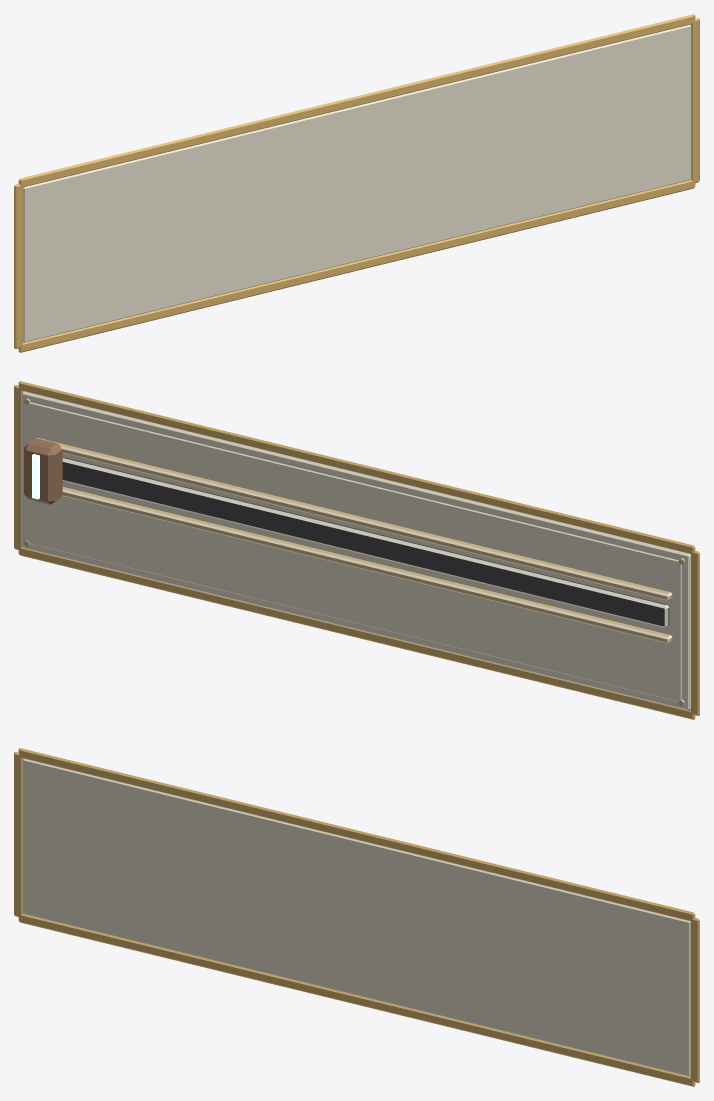
Rendered from Ctl_Slider_4x1.fbx.
The picture shows the model from 3 angles, top to bottom: view 1: azimuth 30°, elevation 25°; view 2: azimuth 150°, elevation 25°; view 3: azimuth 330°, elevation 25°; orthographic projection.
Parts seen in each view (by area): view 1: Ctl_Slider_4x1, Ctl_Slider_4x1_Frame; view 2: Ctl_Slider_4x1, Ctl_Slider_4x1_Frame, Moving.012; view 3: Ctl_Slider_4x1, Ctl_Slider_4x1_Frame.
Part boxes in pixels (bbox=[...]): Ctl_Slider_4x1: bbox=[23, 24, 691, 342]; Ctl_Slider_4x1_Frame: bbox=[14, 14, 699, 352]; Ctl_Slider_4x1: bbox=[21, 391, 690, 710]; Ctl_Slider_4x1_Frame: bbox=[14, 381, 699, 719]; Moving.012: bbox=[24, 438, 62, 504]; Ctl_Slider_4x1: bbox=[22, 758, 690, 1076]; Ctl_Slider_4x1_Frame: bbox=[14, 748, 699, 1086].
Bounding box in the file's own units: 4.36 × 1.06 × 0.22.
